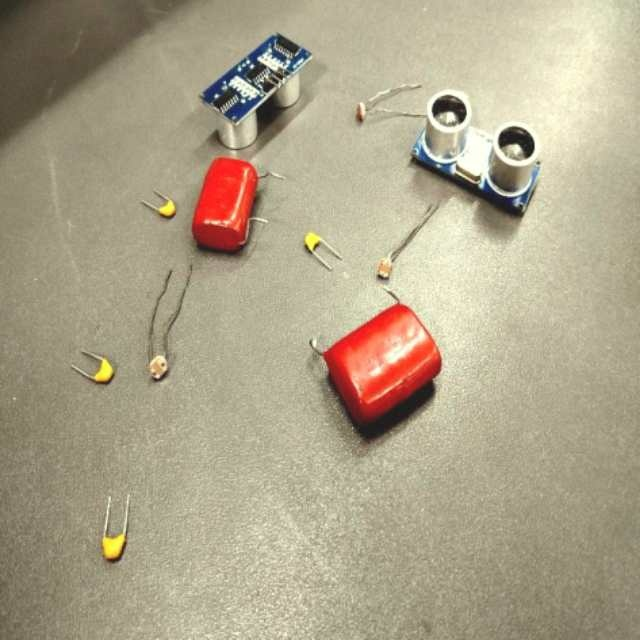capacitor: (327, 307, 441, 437), (192, 158, 259, 258), (96, 498, 128, 563), (78, 355, 113, 385), (160, 201, 176, 220), (305, 233, 320, 250)
